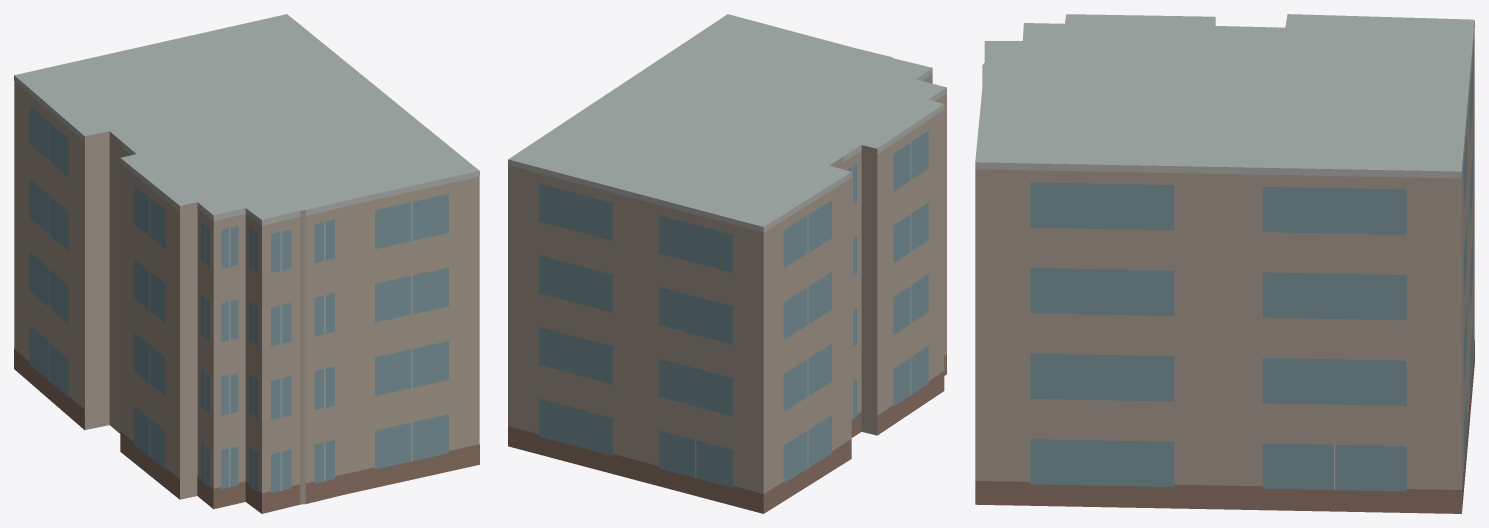
Rendered from survey-upis-32654051.glb.
3 renders of one model, left to right at view 1: azimuth 30°, elevation 25°; view 2: azimuth 150°, elevation 25°; view 3: azimuth 270°, elevation 25°, orthographic. The views are drawn at different scales.
Visible parts, largest first — view 1: survey-upis-32654051.tmp; view 2: survey-upis-32654051.tmp; view 3: survey-upis-32654051.tmp.
Boxes of the visible parts, left/top/right/bottom form: survey-upis-32654051.tmp: left=14, top=14, right=479, bottom=513; survey-upis-32654051.tmp: left=508, top=14, right=946, bottom=513; survey-upis-32654051.tmp: left=975, top=14, right=1474, bottom=513.
Size of the model in its own units: 12.05 by 12.2 by 16.15.
